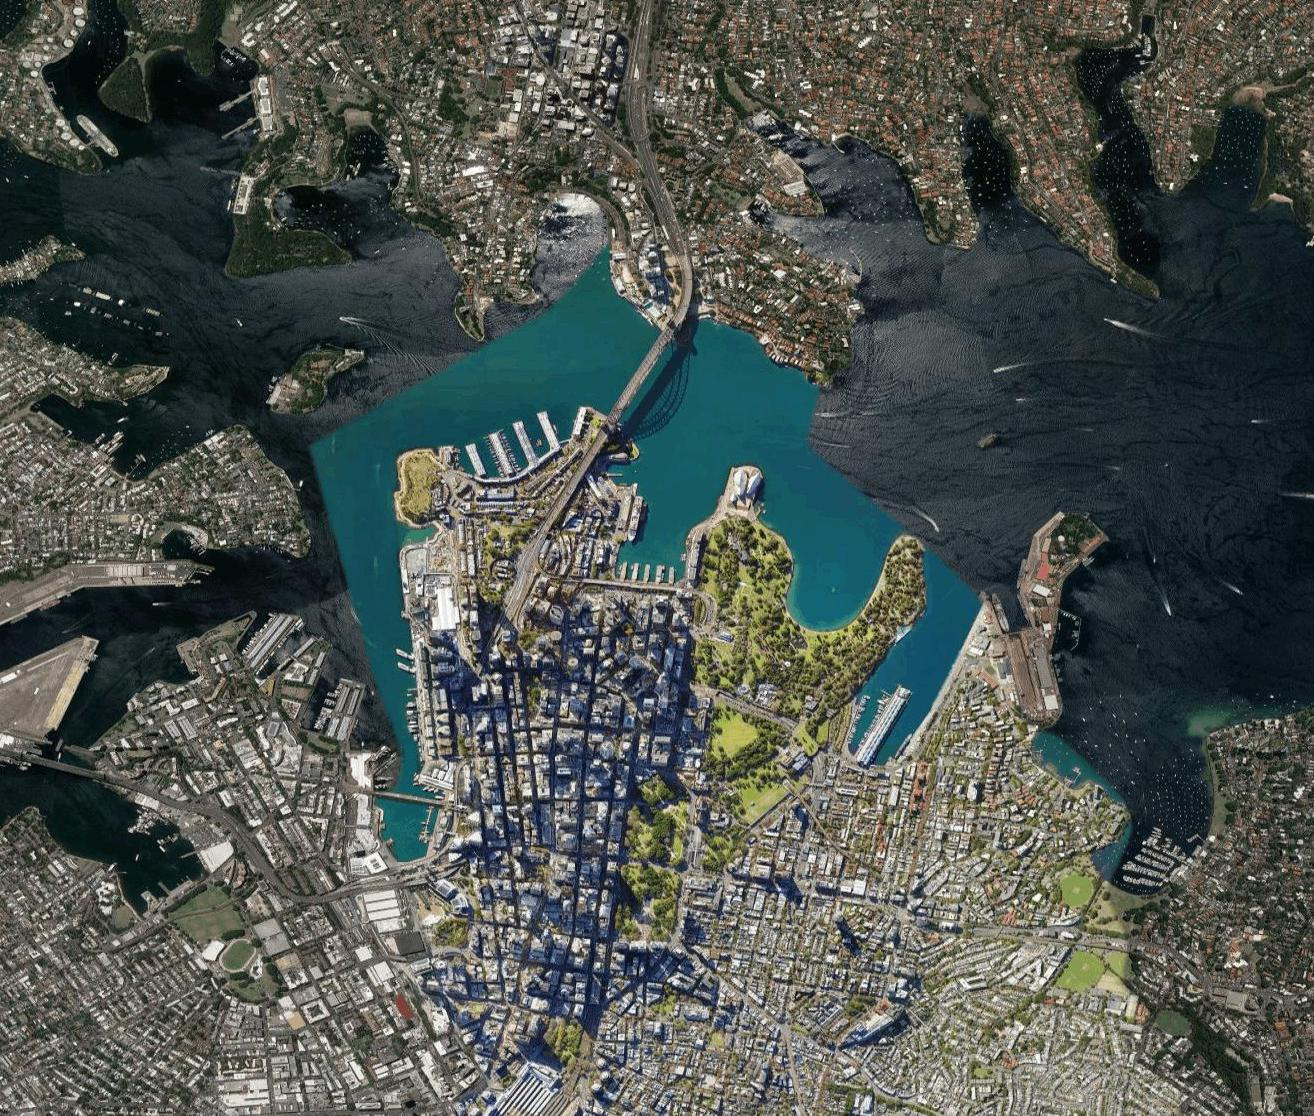bridge: (613, 321, 675, 418)
harbor: (381, 406, 735, 598), (834, 665, 940, 769), (1091, 815, 1207, 896), (394, 632, 454, 781)
motorway: (609, 273, 703, 421), (536, 418, 612, 550), (628, 118, 692, 270), (621, 1, 653, 113)
